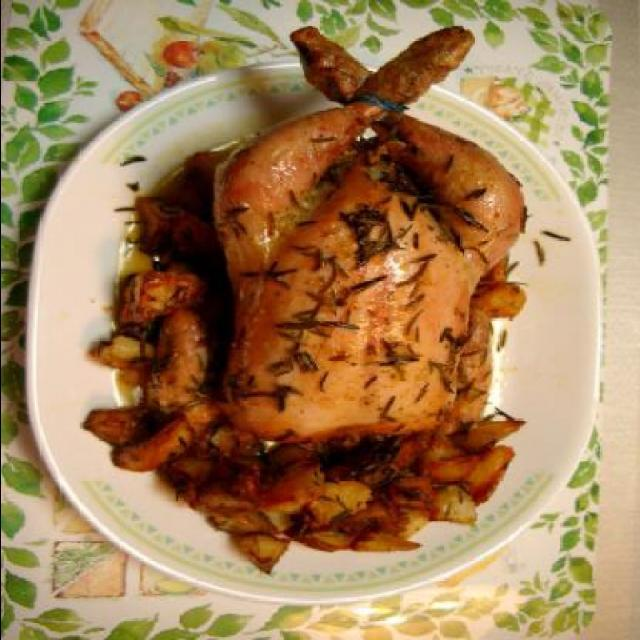Chicken roast: (204, 32, 516, 450)
Potato: (202, 448, 518, 568)
